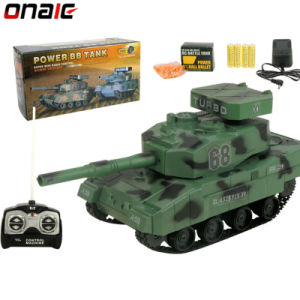Battle Tank: (71, 113, 299, 254), (30, 79, 96, 108), (94, 75, 140, 100)
